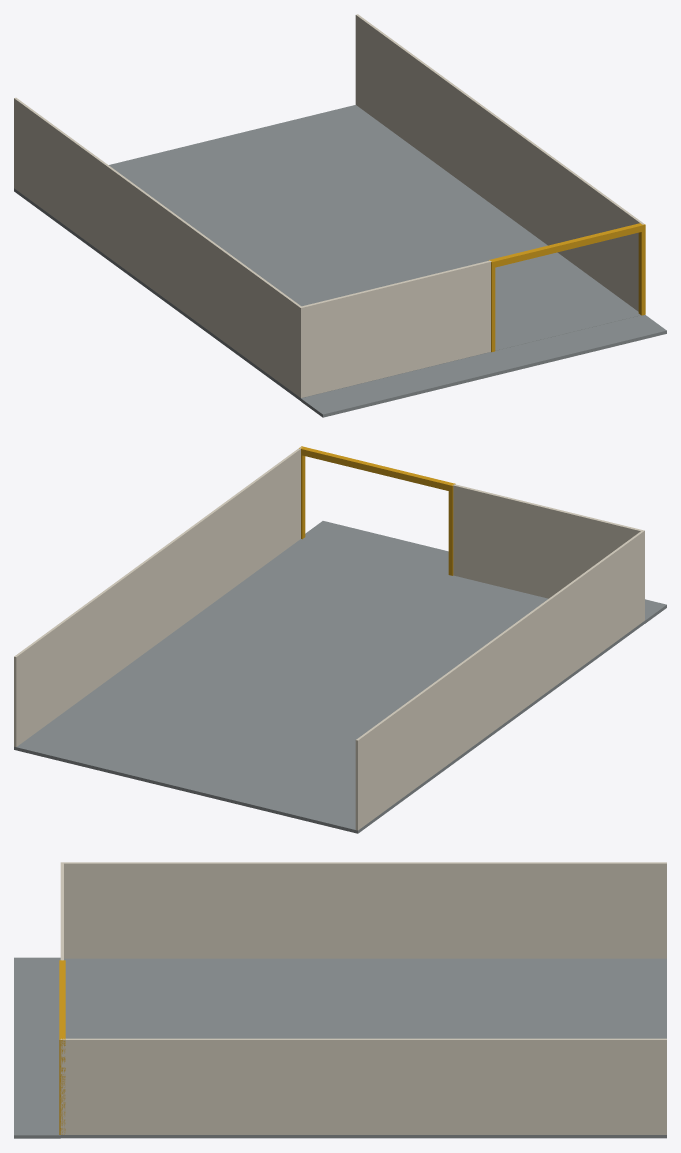
File: halaman.glb
3 views of the same model, one above another, from view 1: azimuth 30°, elevation 25°; view 2: azimuth 150°, elevation 25°; view 3: azimuth 270°, elevation 25° (orthographic). The views are drawn at different scales.
Visible parts, largest first — view 1: halaman; view 2: halaman; view 3: halaman.
Part boxes in pixels (<box>): halaman: <box>14,14,666,417</box>; halaman: <box>14,446,666,833</box>; halaman: <box>14,862,666,1138</box>.
Bounding box in the file's own units: 18 × 4.67 × 28.
